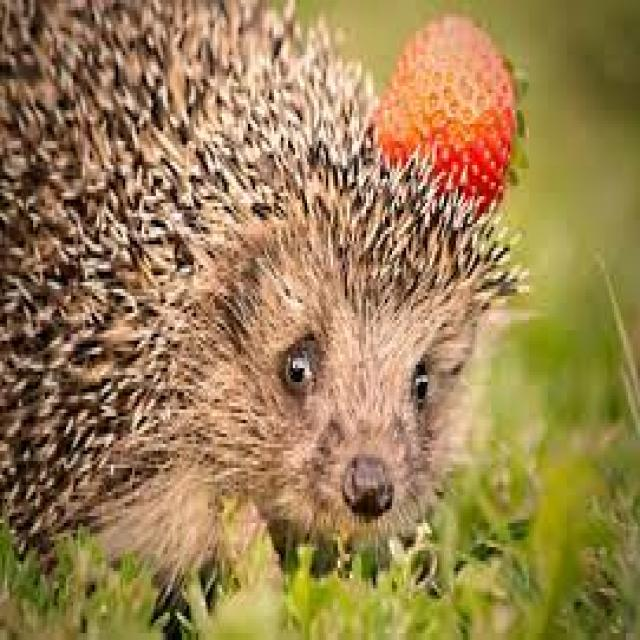Hedgehog: (0, 0, 512, 602)
